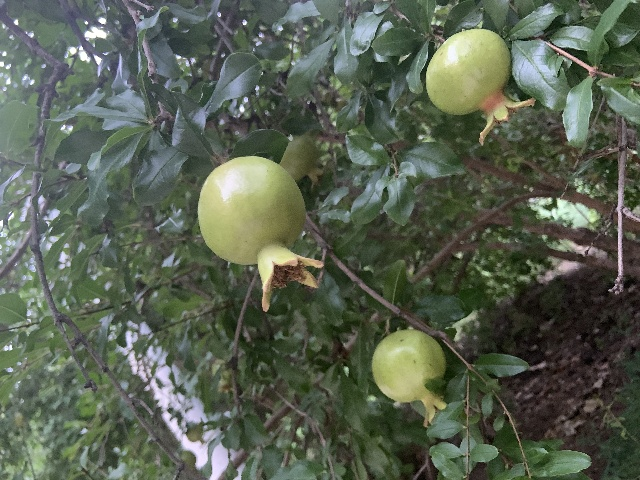mid-growth: (197, 154, 325, 312), (425, 27, 536, 145), (371, 328, 448, 426), (281, 133, 325, 187)
